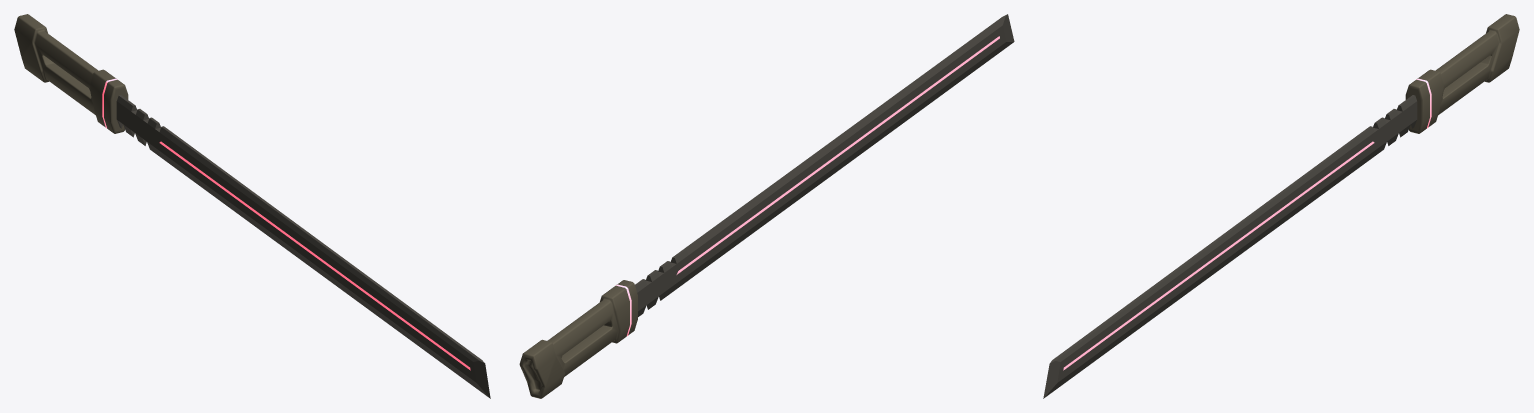
File: Katana.fbx
3 renders of one model, left to right at view 1: azimuth 30°, elevation 25°; view 2: azimuth 150°, elevation 25°; view 3: azimuth 330°, elevation 25°, orthographic. The views are drawn at different scales.
Parts seen in each view (by area): view 1: katana_2; view 2: katana_2; view 3: katana_2.
Part boxes in pixels (x1,y1,x2,y2): katana_2: (14, 14, 490, 398); katana_2: (519, 14, 1014, 398); katana_2: (1043, 14, 1519, 398).
Size of the model in its own units: 1.52 by 3.79 by 67.19.
